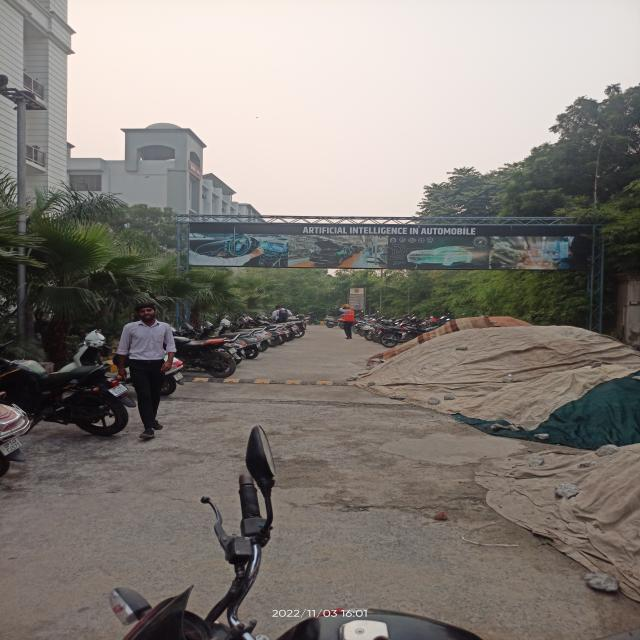safe: (340, 304, 354, 339)
unsafe: (123, 302, 178, 441)
